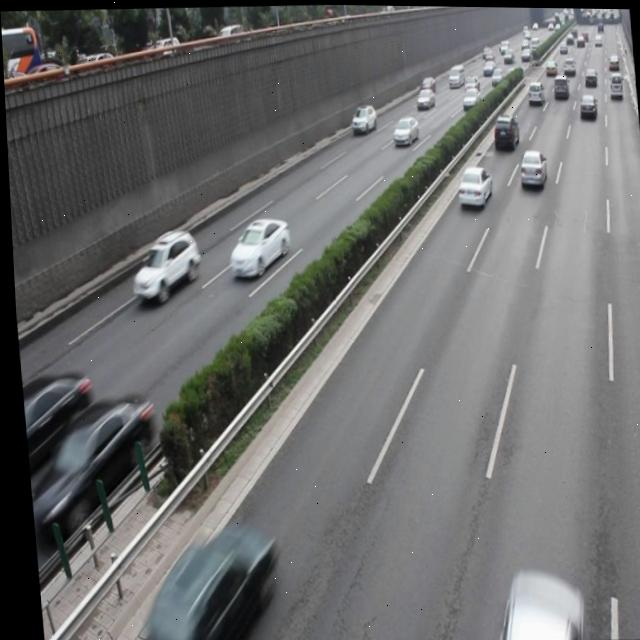car: (18, 393, 160, 533), (128, 515, 274, 640), (17, 369, 94, 469), (488, 563, 577, 640), (124, 224, 203, 302), (223, 215, 290, 280), (452, 162, 491, 208), (515, 146, 544, 186)
